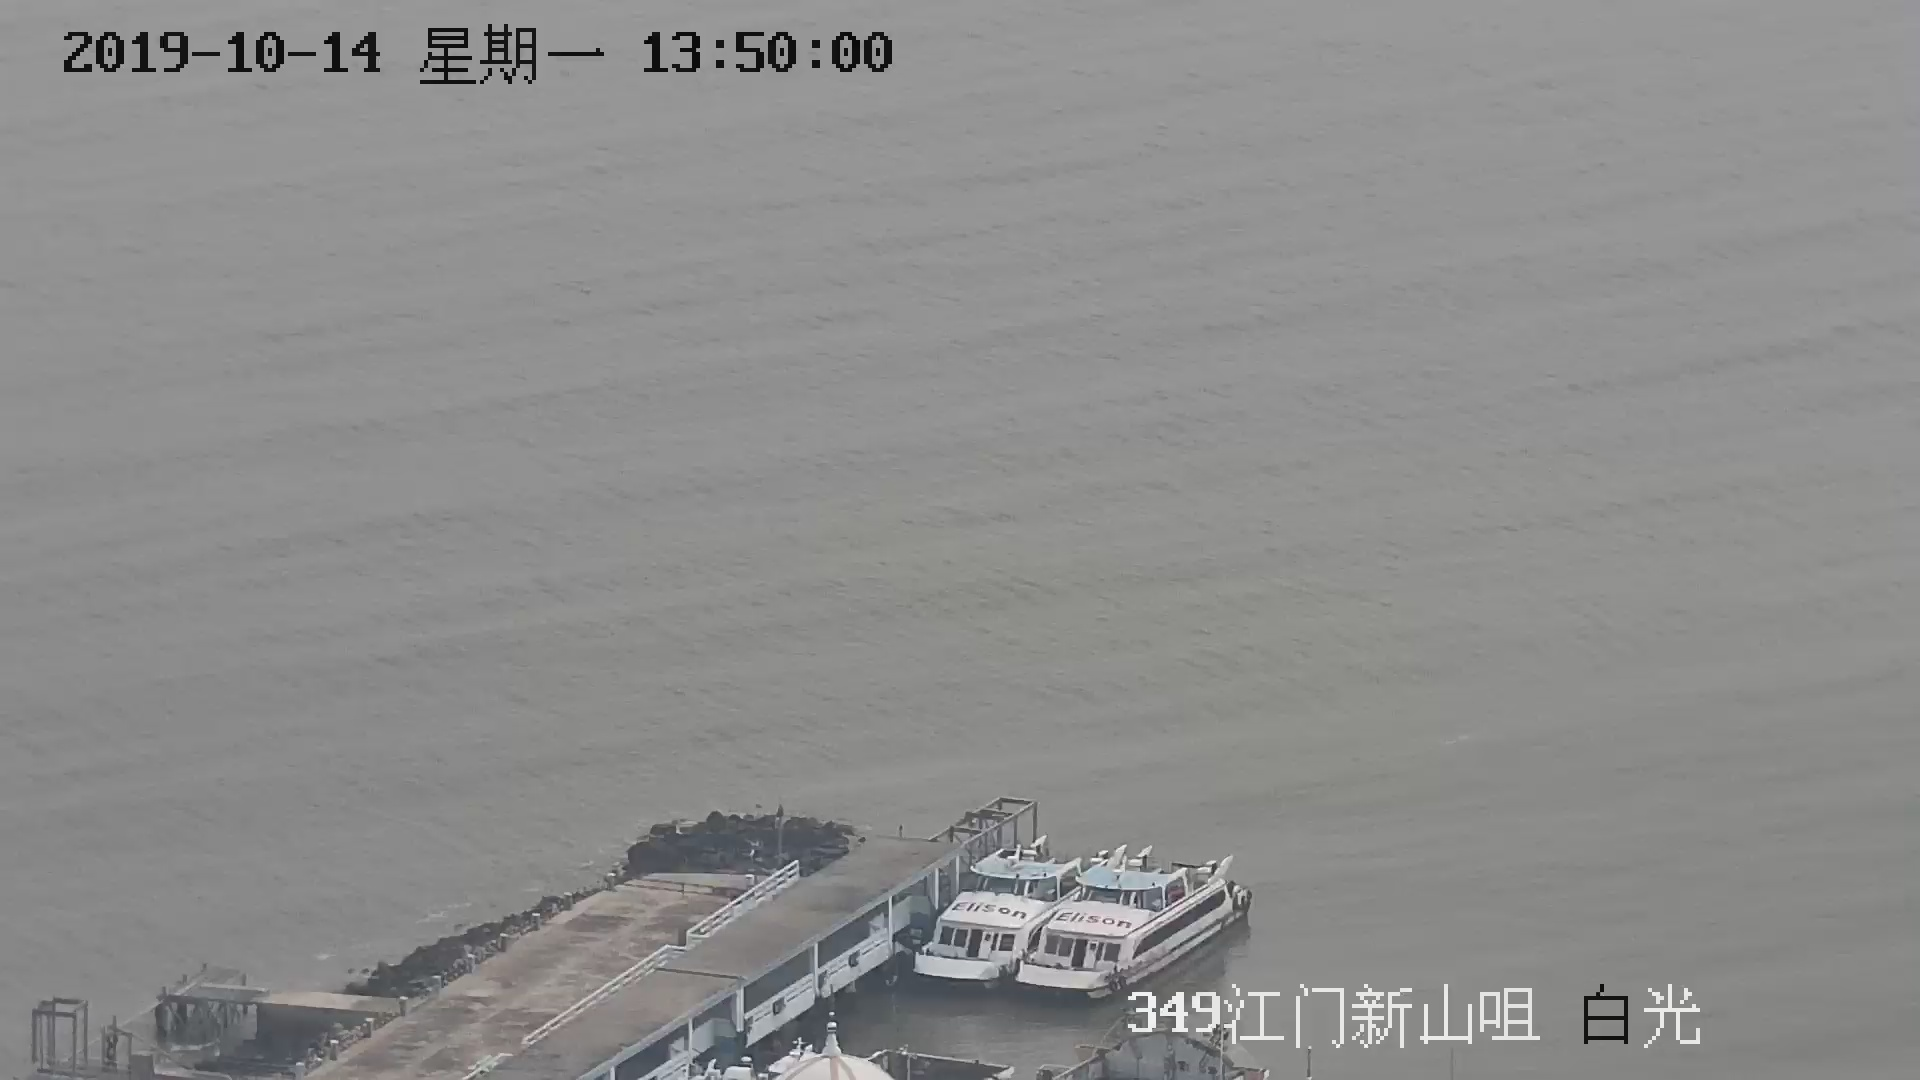ship: (909, 836, 1139, 988), (1019, 851, 1261, 994)
